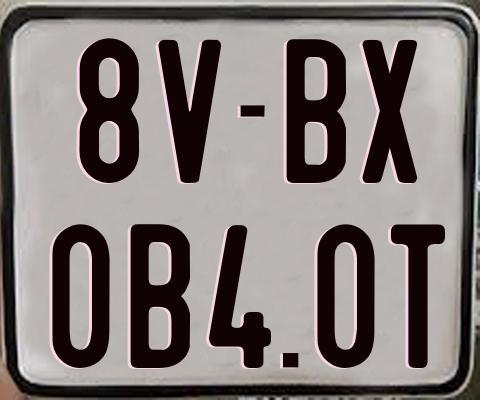0: (51, 222, 111, 372), (315, 224, 375, 374)
4: (207, 225, 270, 370)
8: (76, 35, 140, 186)
B: (131, 224, 196, 369), (287, 39, 347, 184)
T: (390, 223, 445, 367)
V: (155, 40, 218, 183)
X: (362, 39, 419, 183)
